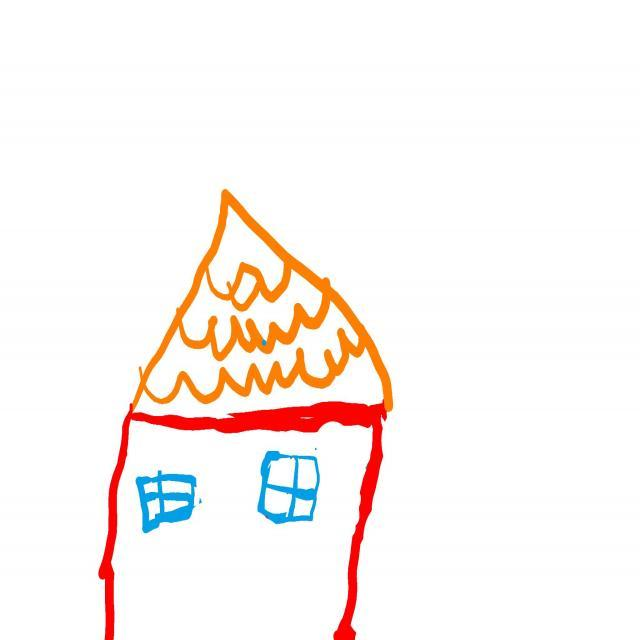house: (99, 190, 393, 640)
roof: (106, 410, 385, 640), (133, 190, 393, 418)
window: (258, 452, 320, 525), (138, 472, 196, 534)
